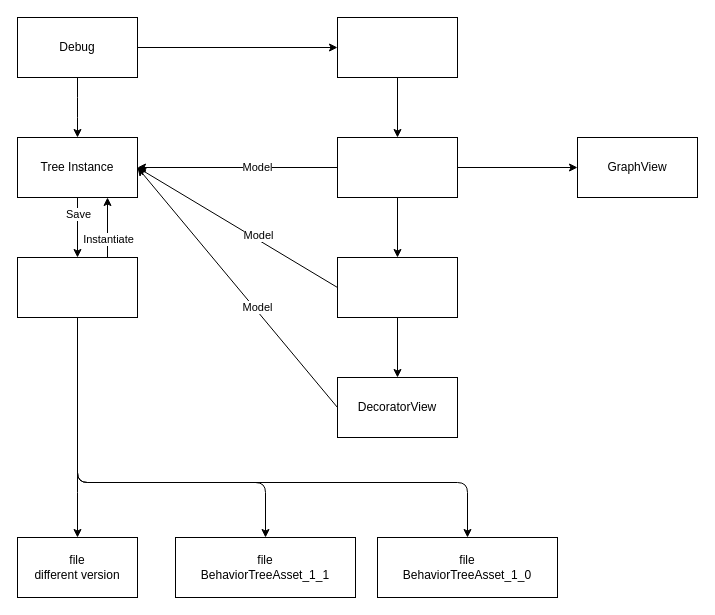
Image size: 715x615. Some labels were removed from this diagram. The centre of each missing label's shape, as x and y in pixels:
"EidtorWindow" goes at point 397,47.
"IBehaviorTreeAsset" goes at point 77,287.
"NodeView" goes at point 397,287.
"TreeView" goes at point 397,167.
